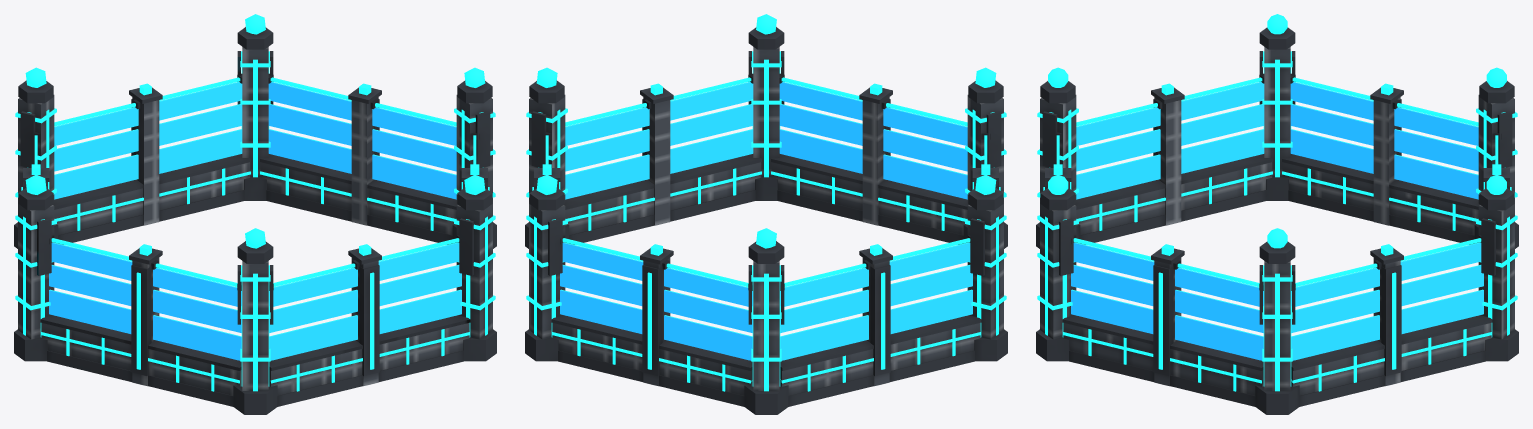
Rendered from fort_l8.glb.
3 views of the same model, side by side, from view 1: azimuth 30°, elevation 25°; view 2: azimuth 150°, elevation 25°; view 3: azimuth 270°, elevation 25° (orthographic).
Visible parts, largest first — view 1: fort_l8; view 2: fort_l8; view 3: fort_l8.
Boxes of the visible parts, x1,y1,x2,y2 form: fort_l8: [14, 14, 496, 414]; fort_l8: [525, 14, 1007, 414]; fort_l8: [1036, 14, 1518, 414].
Bounding box in the file's own units: 1.85 × 0.67 × 1.64.
Materials: 3 (1 with a texture image).
